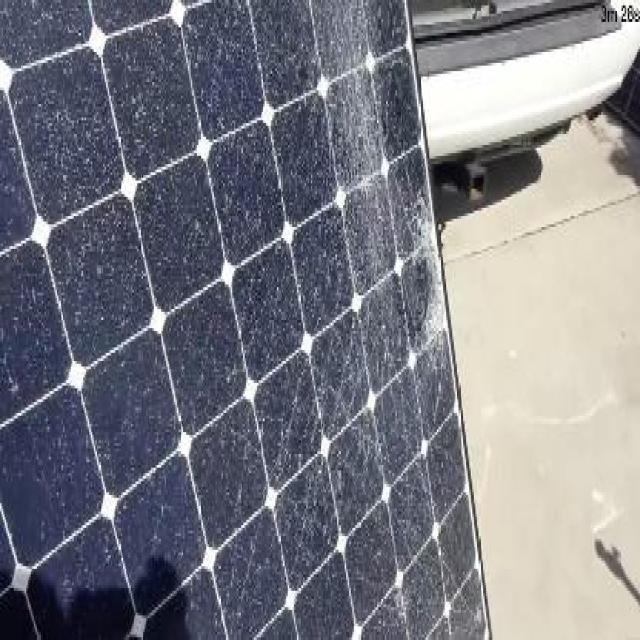cracked: (1, 2, 496, 640)
